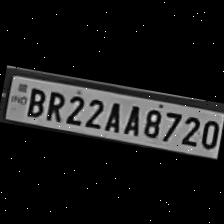0: (196, 114, 222, 150)
2: (80, 92, 106, 128), (176, 110, 202, 146), (62, 90, 86, 125)
7: (158, 106, 182, 142)
8: (139, 103, 164, 139)
A: (100, 95, 125, 133), (119, 98, 144, 136)
B: (22, 82, 48, 117)
R: (42, 86, 66, 122)
